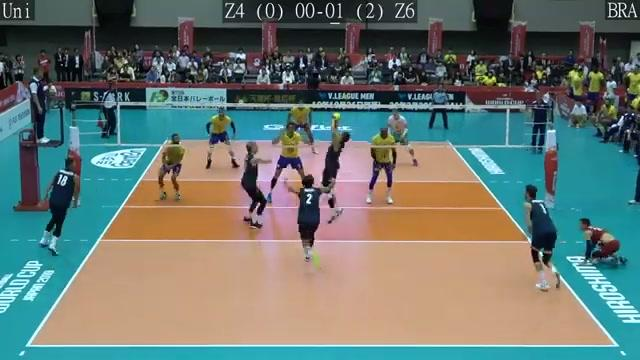ball: (330, 111, 342, 125)
